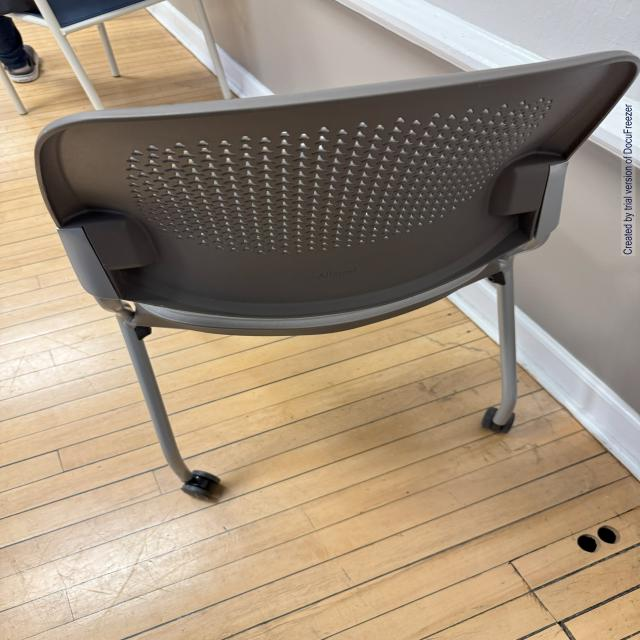chair: (31, 47, 640, 529)
